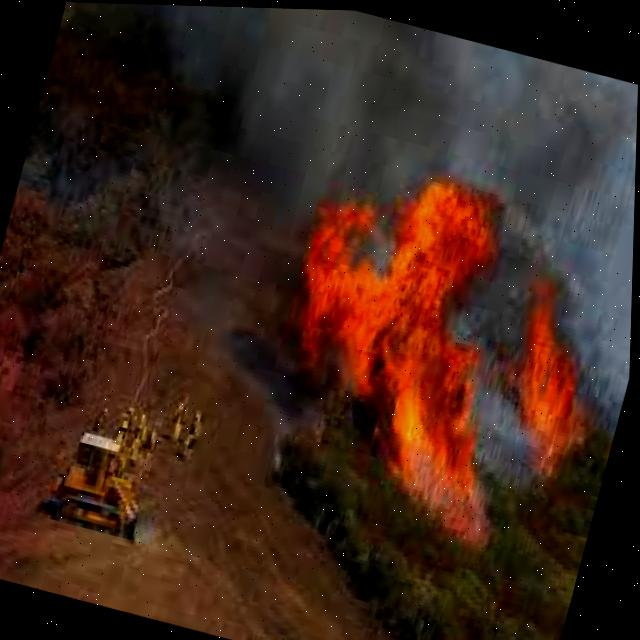fire: (270, 205, 515, 490), (501, 281, 603, 478)
smoke: (192, 5, 638, 236)
